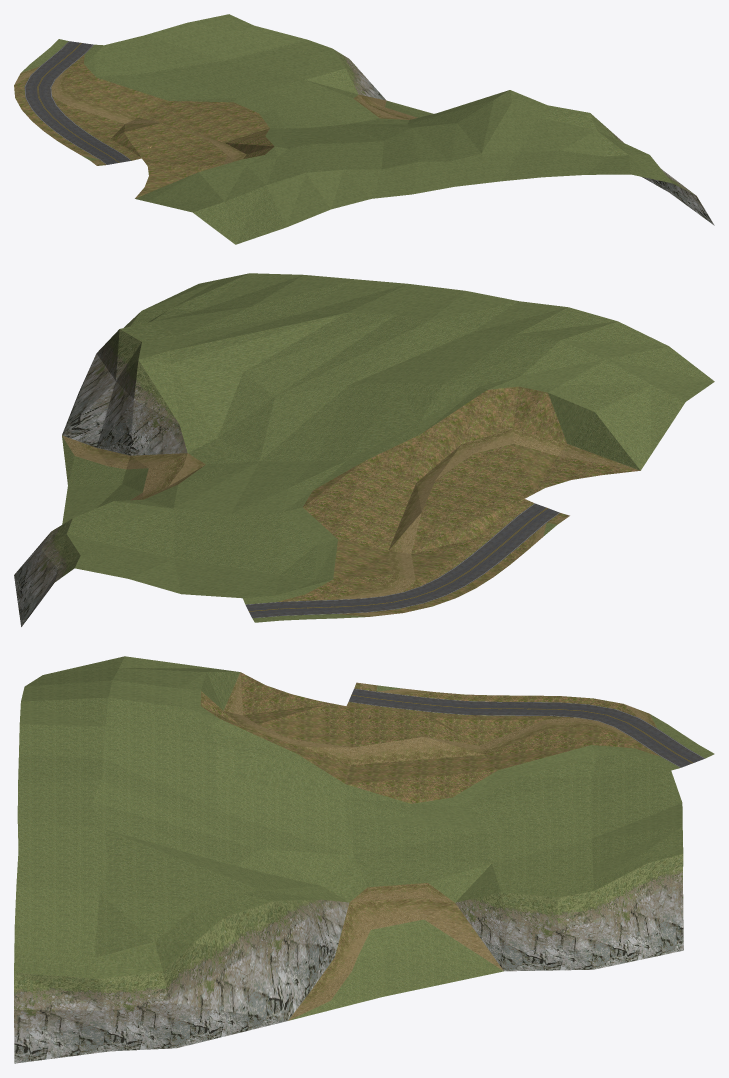
File: s_bit_09.obj
The picture shows the model from 3 angles, top to bottom: view 1: azimuth 30°, elevation 25°; view 2: azimuth 150°, elevation 25°; view 3: azimuth 270°, elevation 25°; orthographic projection. The views are drawn at different scales.
Visible parts, largest first — view 1: s_bit_09; view 2: s_bit_09; view 3: s_bit_09.
Part boxes in pixels (box(x1,y1,x2,y2)): s_bit_09: box(14, 14, 714, 244); s_bit_09: box(14, 273, 714, 626); s_bit_09: box(14, 656, 714, 1063).
Bounding box in the file's own units: 253 × 57.4 × 255.
Materials: 10 (10 with a texture image).
